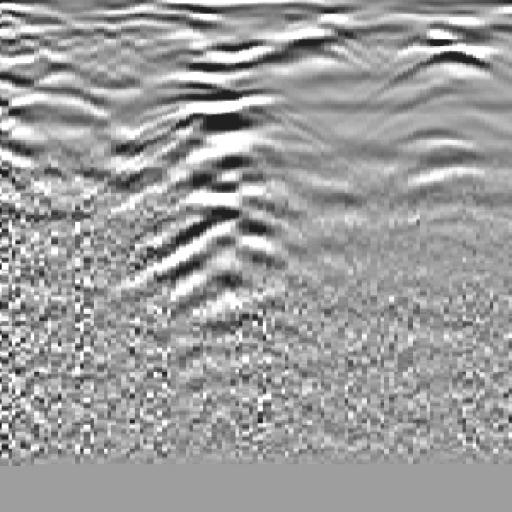metalic: (96, 38, 346, 345), (327, 7, 512, 221)
